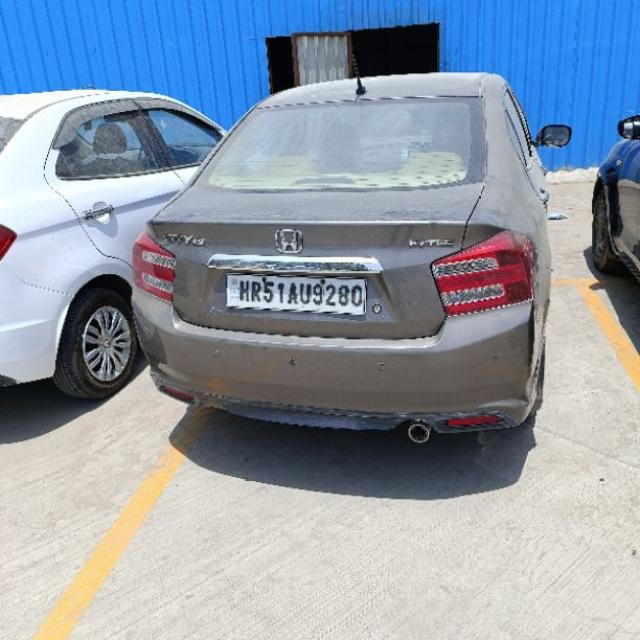license_plate: (224, 271, 367, 316)
